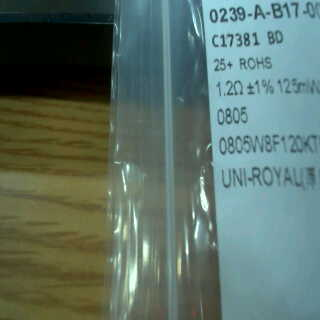1.2R: (214, 78, 247, 130)
